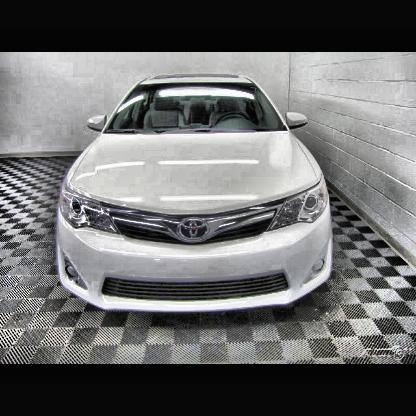Toyota Camry Sedan 2012: (57, 74, 334, 314)
